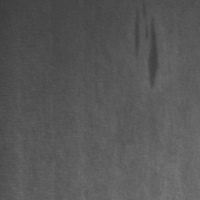inclusion: (127, 1, 165, 92)
